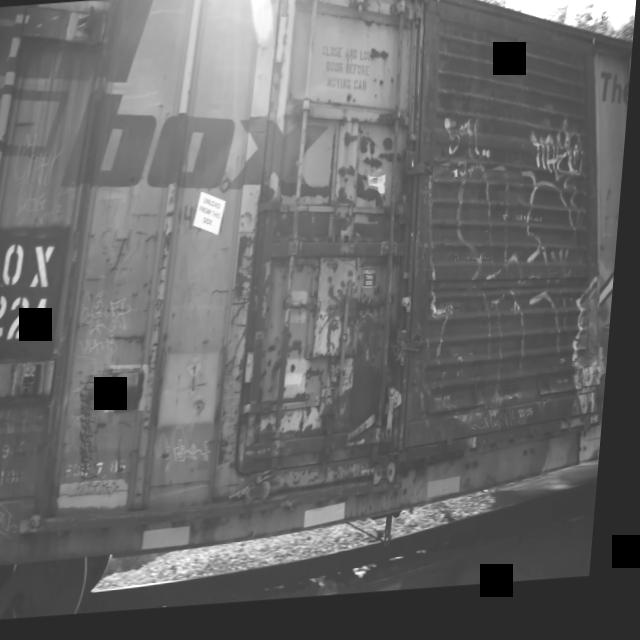boxcar: (0, 0, 640, 622)
